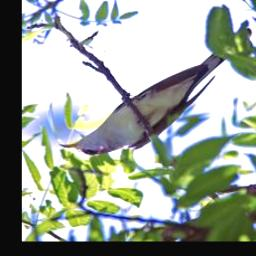Cuckoo: (60, 28, 253, 158)
